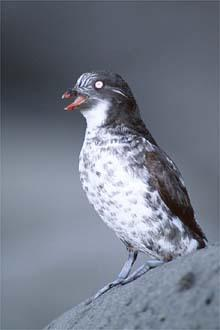006.Least_Auklet: (58, 68, 208, 301)
